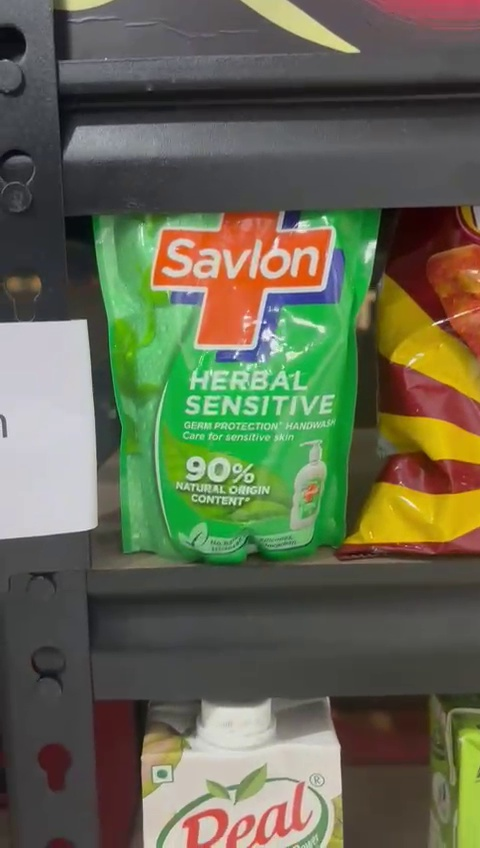Savlon Herbal: (94, 211, 371, 556)
